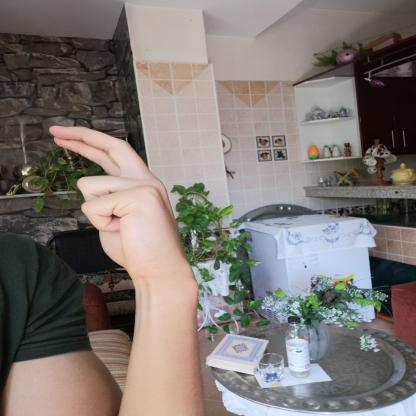ZAY: (37, 117, 200, 291)
